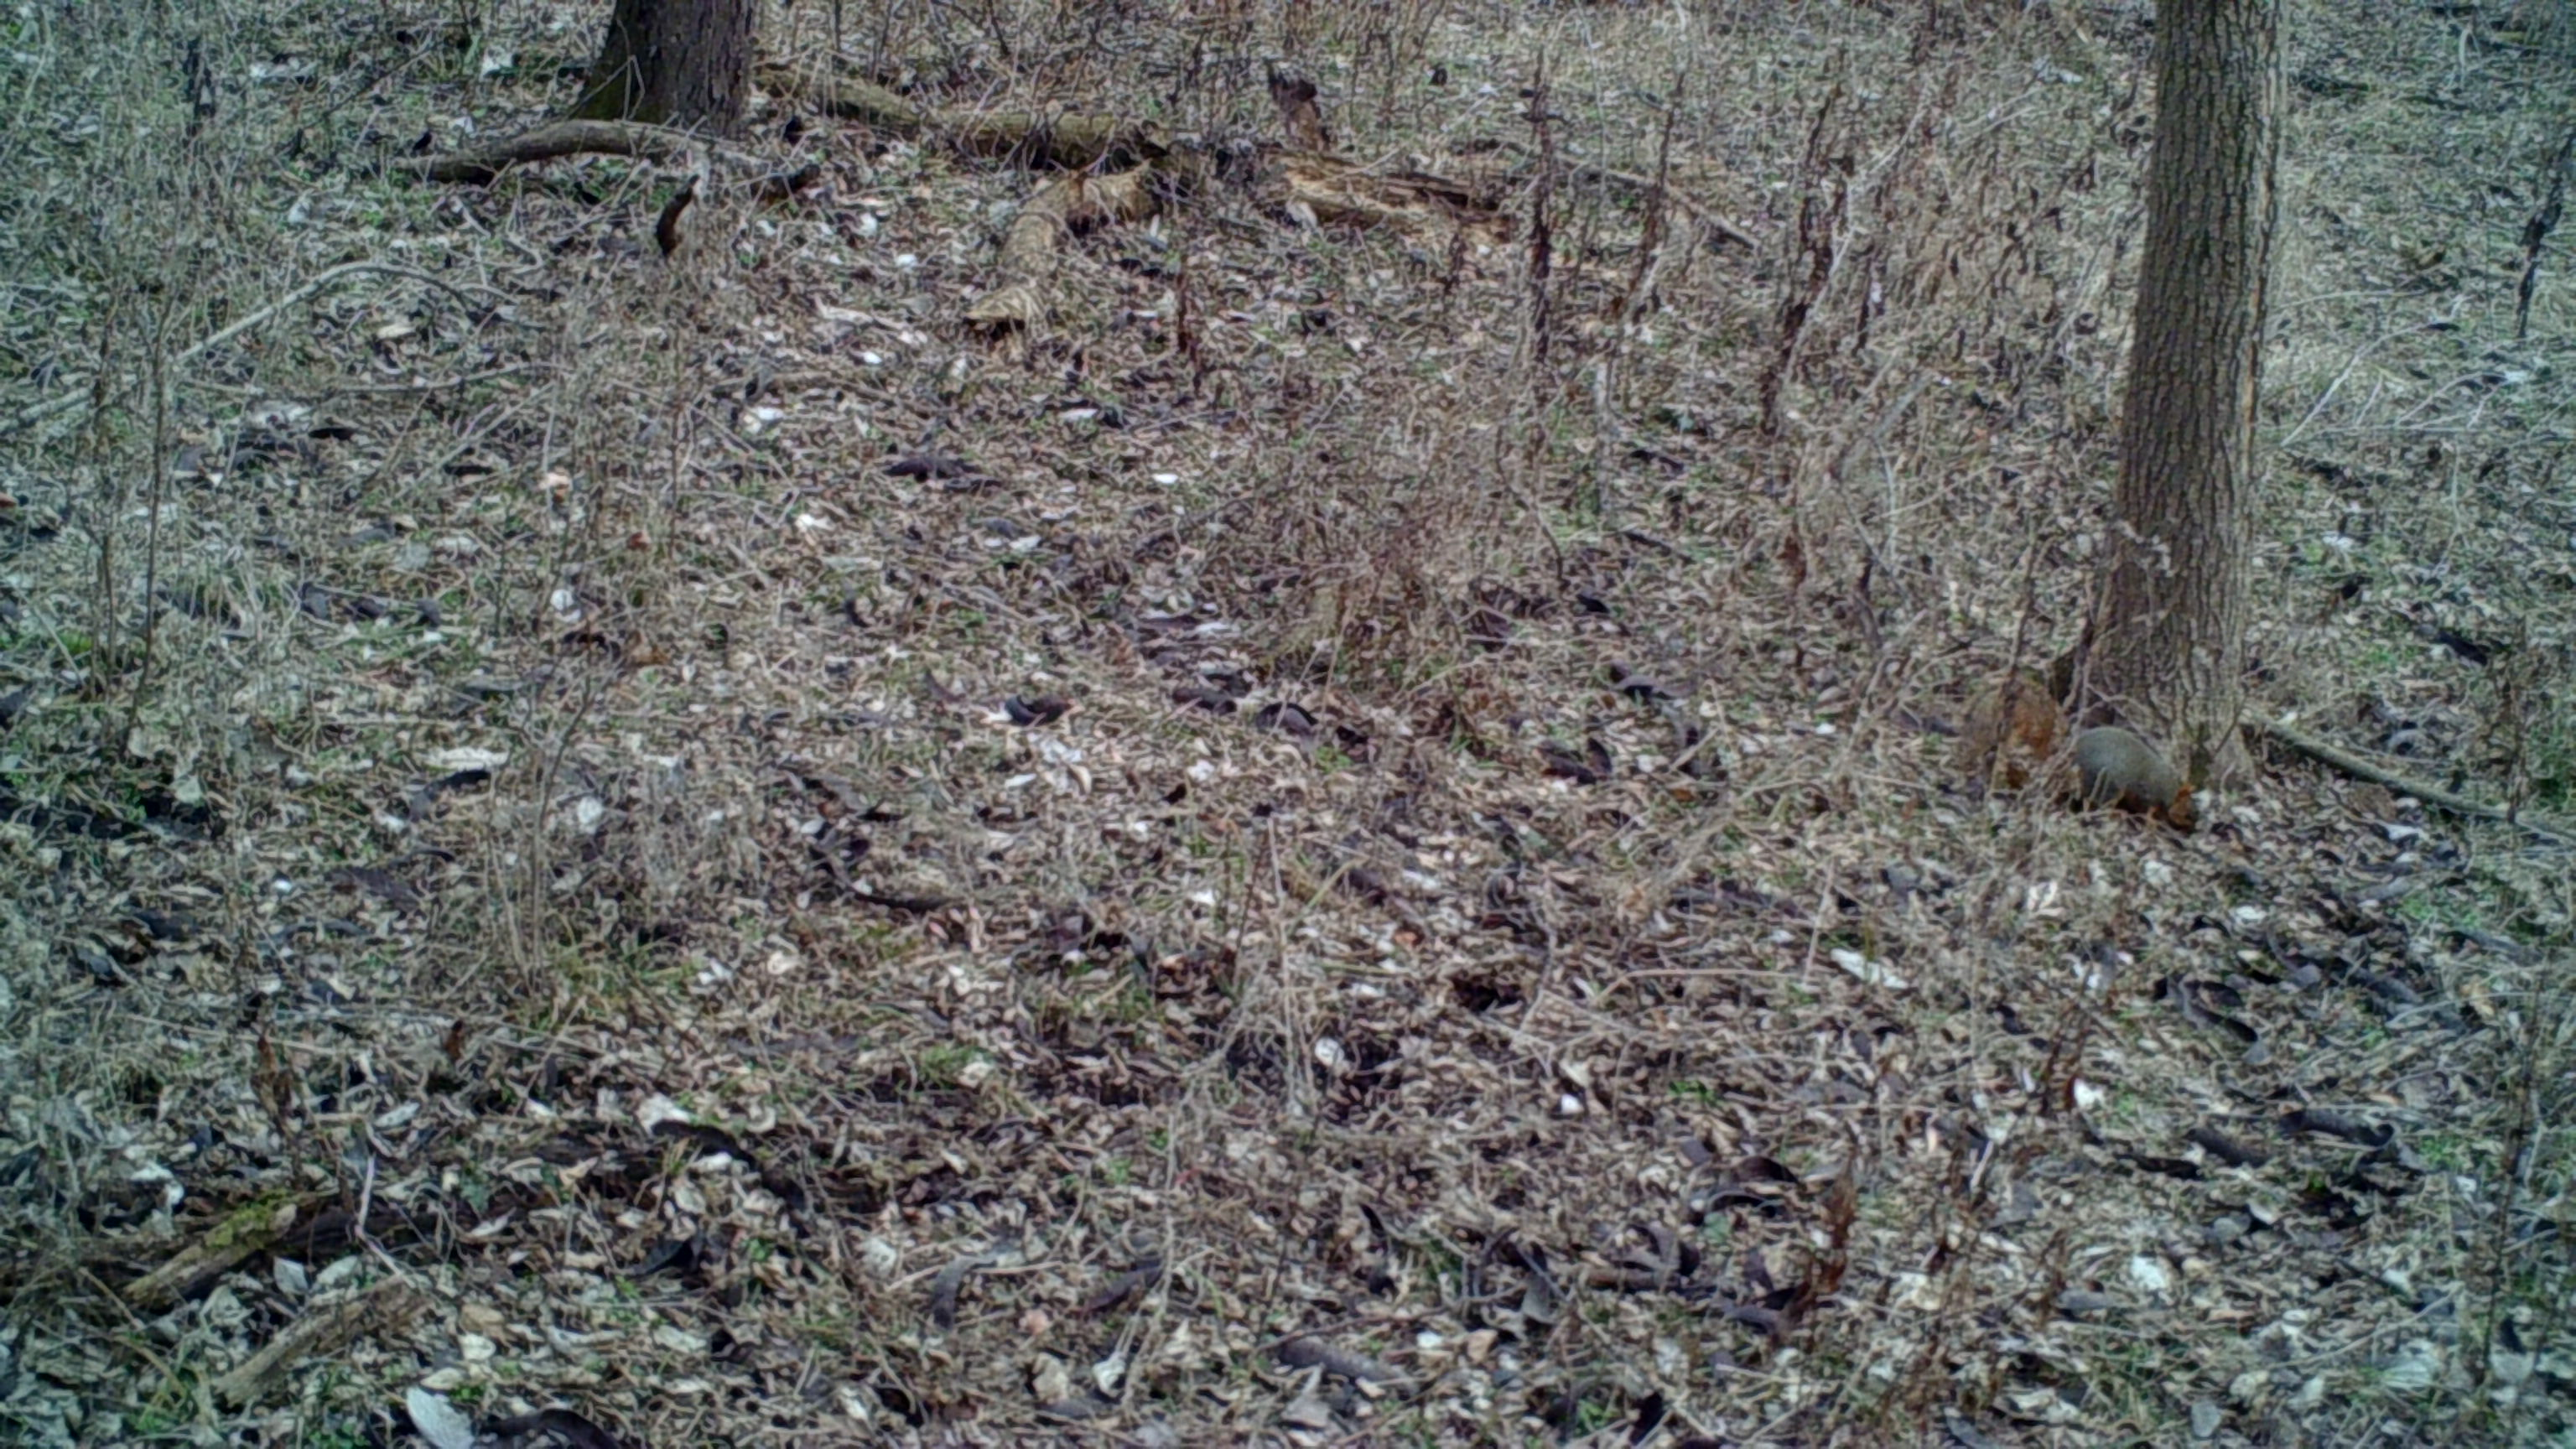Squirrel: (1973, 669, 2213, 835)
